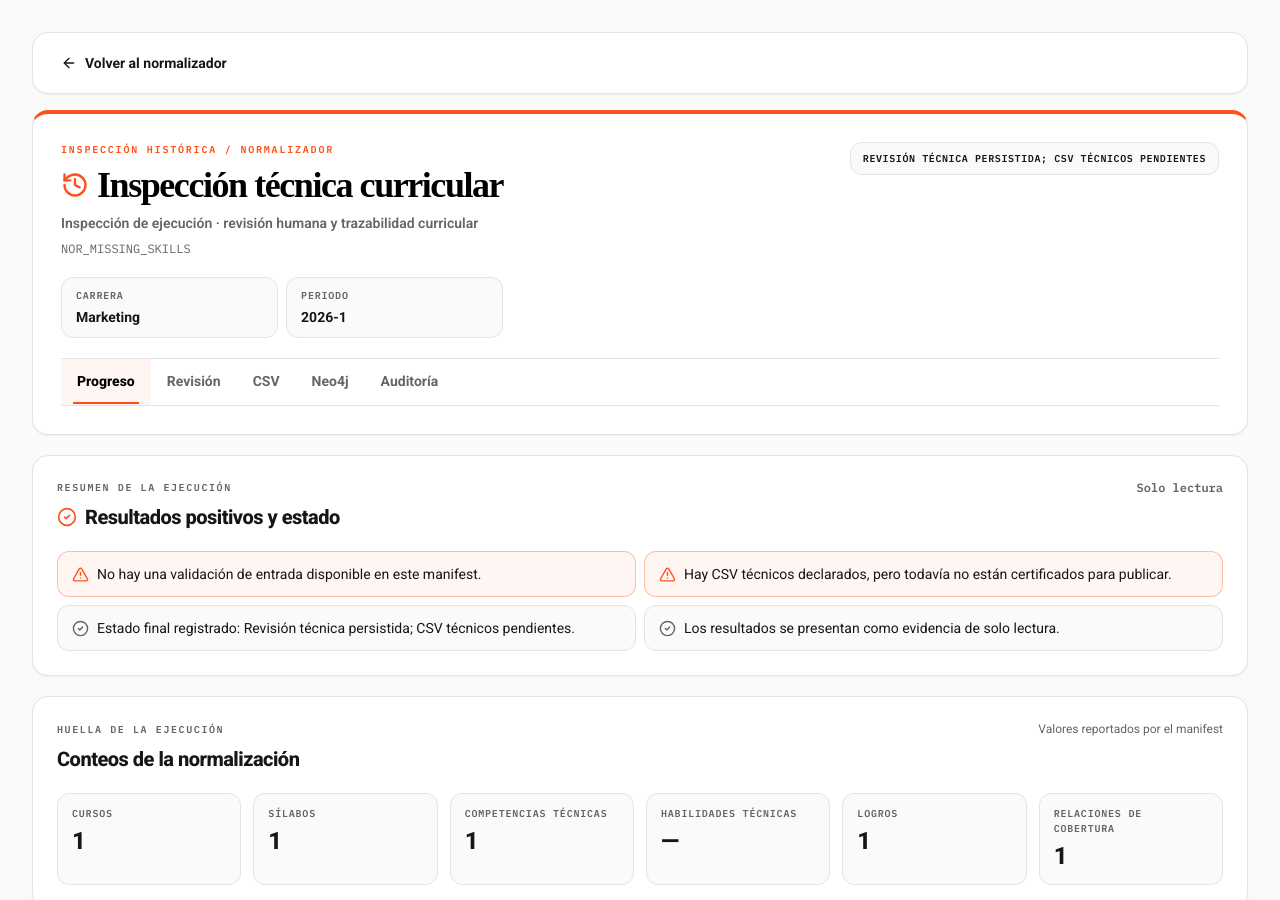
it: inspección de ejecución normalizada › bloquea Neo4j cuando falta catalogo_habilidades.csv aunque existan los otros cinco
What coordinates should you click on to do the following:
click the tab "Neo4j"
I would click on:
 (330, 382)
Its box is [296,359,365,405].
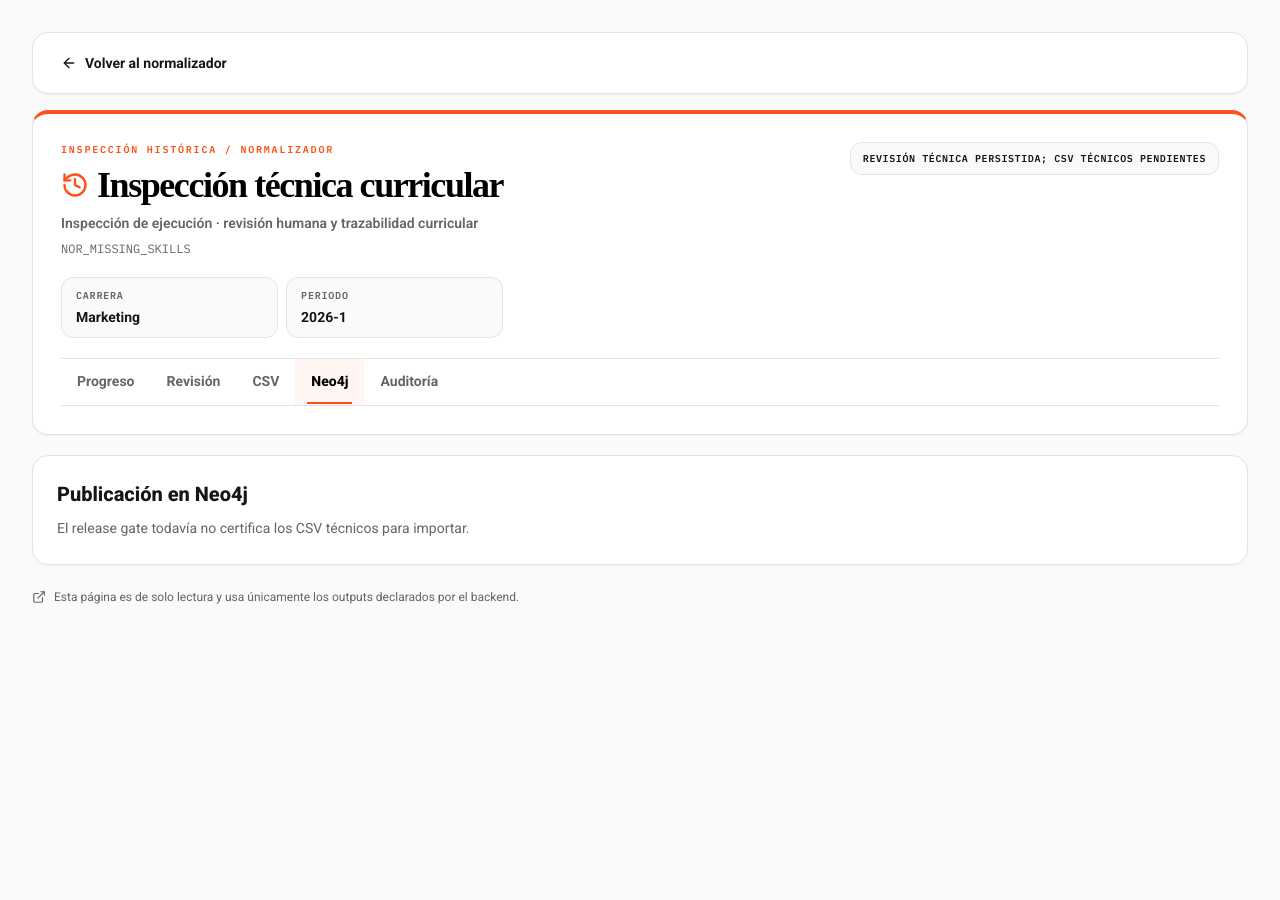
Check: the text "release gate todavía no certifica" is shown, box [57,520,470,536]
